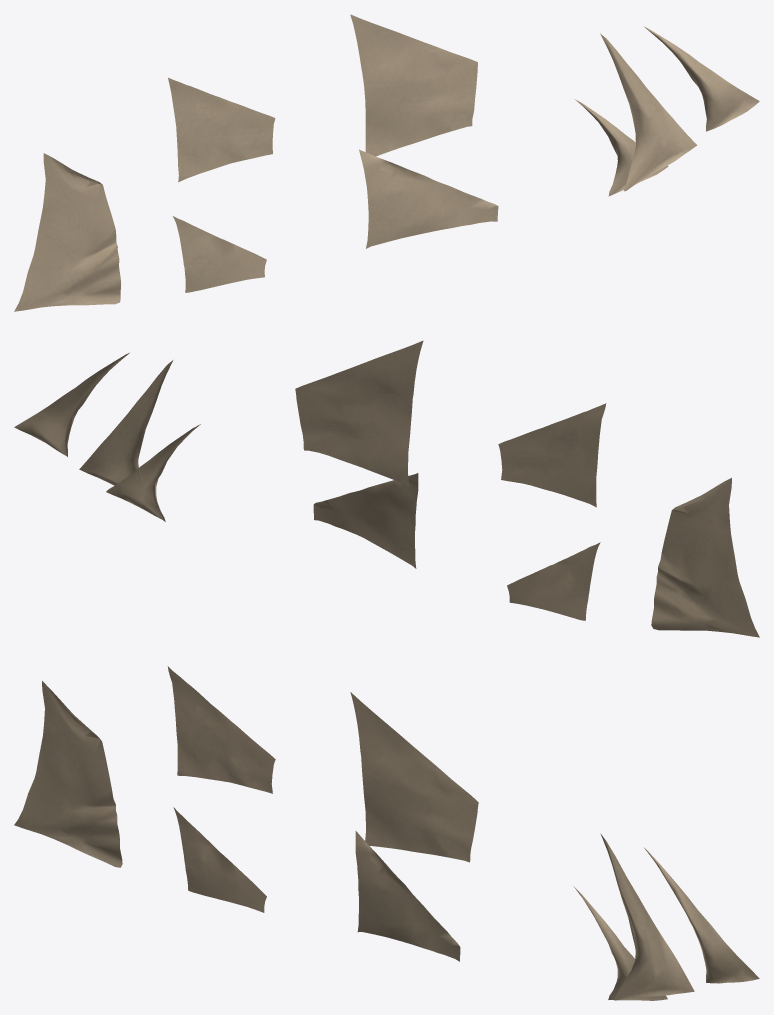
Rendered from Side Sails1.fbx.
3 views of the same model, one above another, from view 1: azimuth 30°, elevation 25°; view 2: azimuth 150°, elevation 25°; view 3: azimuth 330°, elevation 25° (orthographic).
Visible parts, largest first — view 1: Side_Sails; view 2: Side_Sails; view 3: Side_Sails.
Boxes of the visible parts, <box> form: Side_Sails: <box>14,14,759,311</box>; Side_Sails: <box>14,340,759,637</box>; Side_Sails: <box>14,666,759,1000</box>.
Size of the model in its own units: 874 by 275 by 41.67.
1 material, 1 textured.
